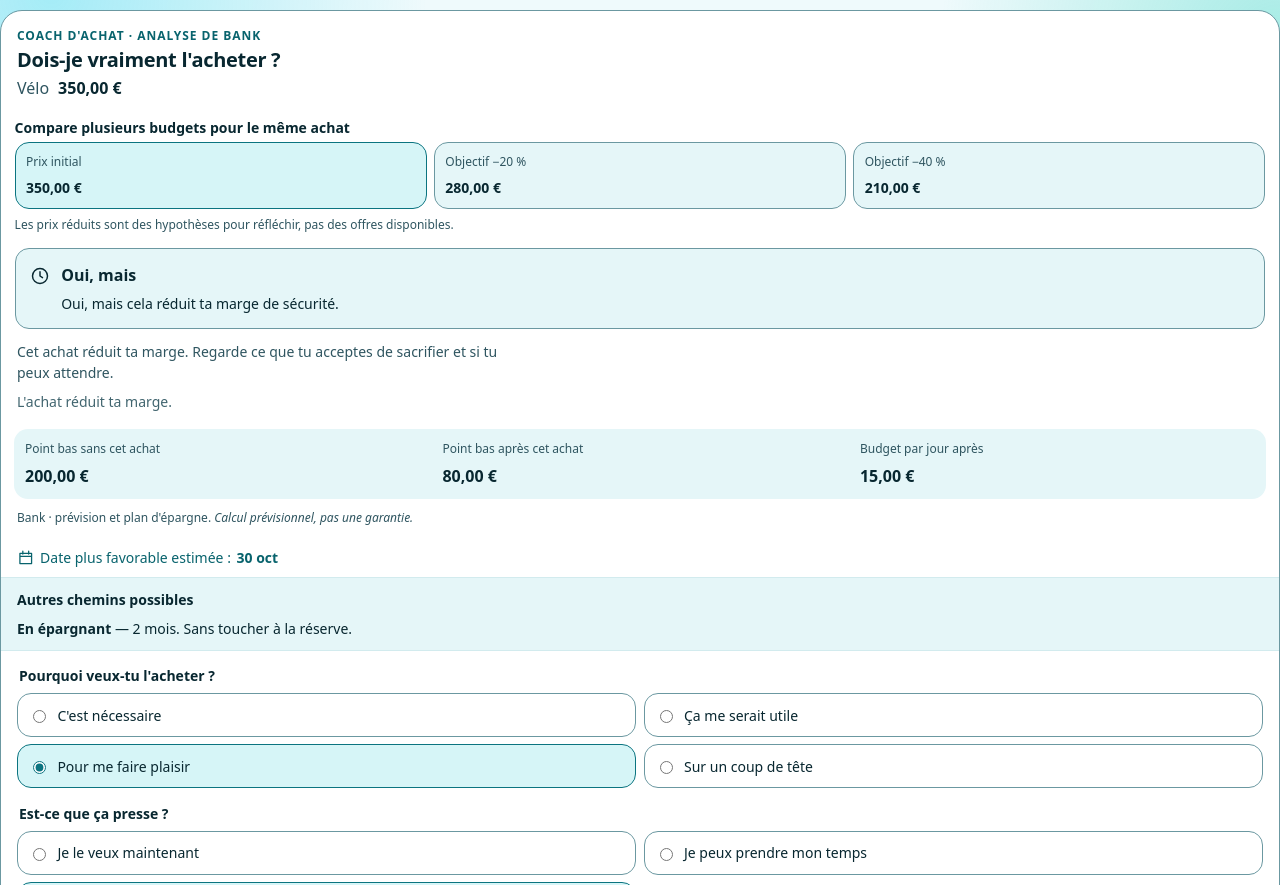
coach d'achat dans le chat › compares three Bank-calculated price targets without inventing offers or sending early
Expected: the element with class "chat-purchase-comparison" shows "pas des offres disponibles", [15,216,454,233]
Click the button "Objectif −40 % 210,00 €" at (892, 162), box [853,142,1266,209]
(page scrolled)
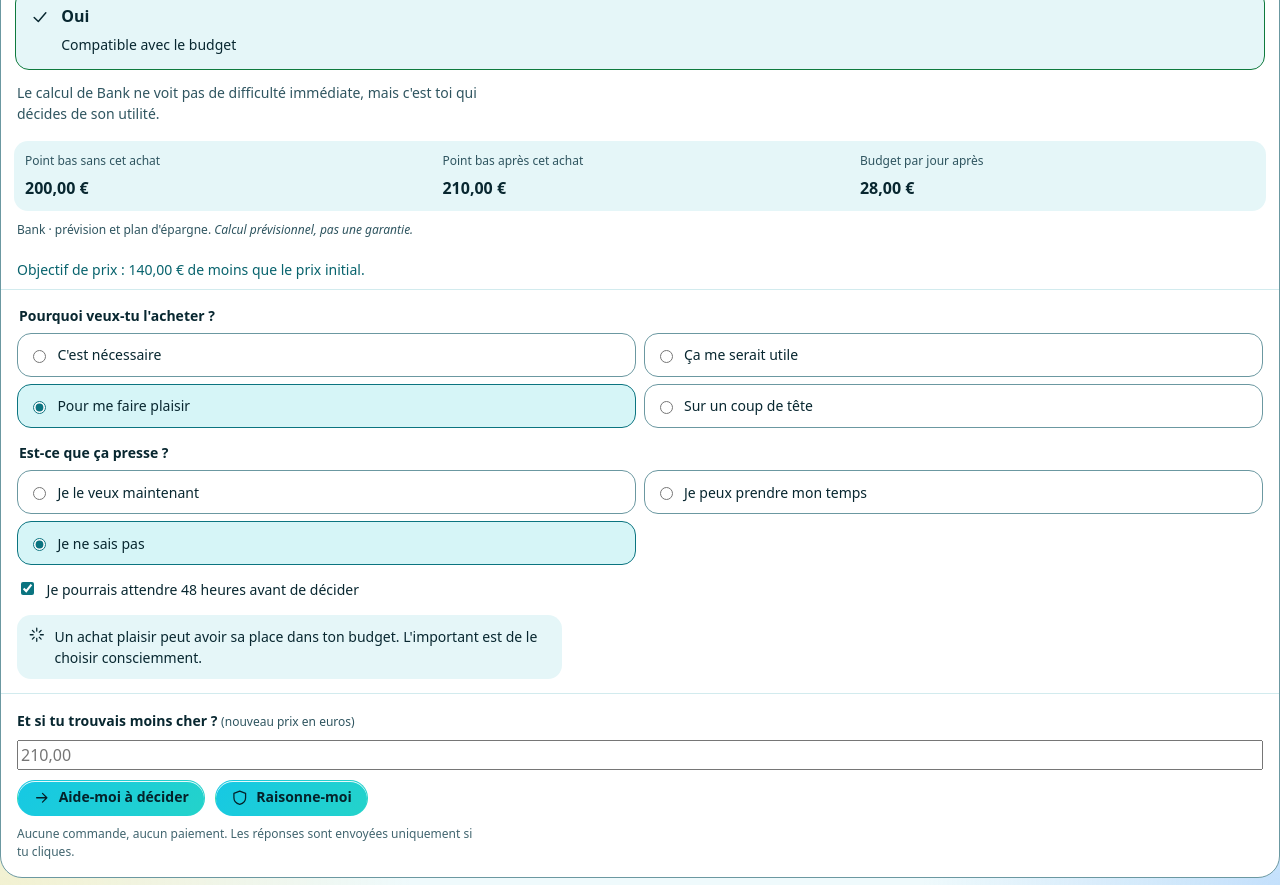
Expected: the message with class "chat-purchase-verdict" shows "Oui", [61,5,89,27]
Click the button "Raisonne-moi" at (291, 798), box [215,780,368,816]
(page scrolled)
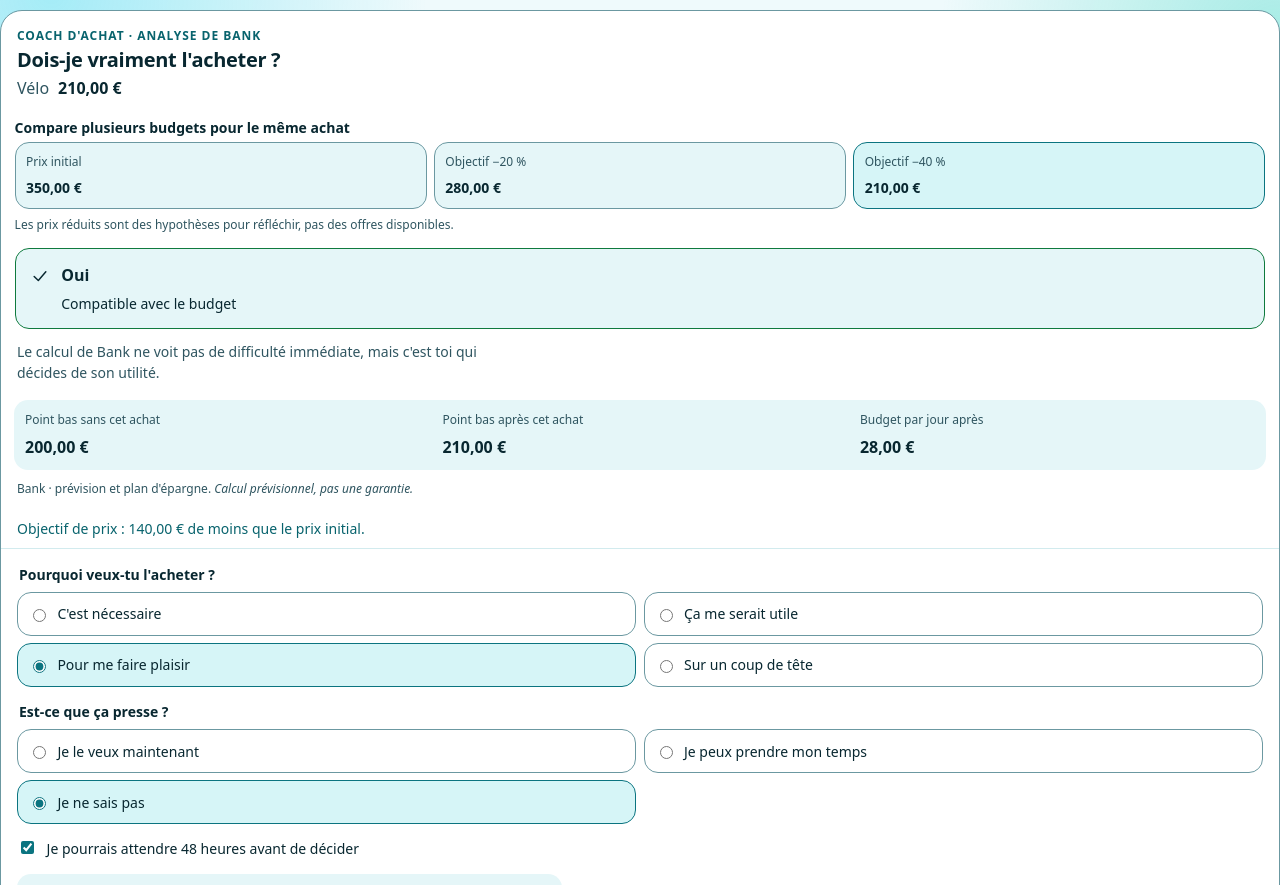
Click the button "Prix initial 350,00 €" at (54, 162), box [15,142,427,209]
(page scrolled)
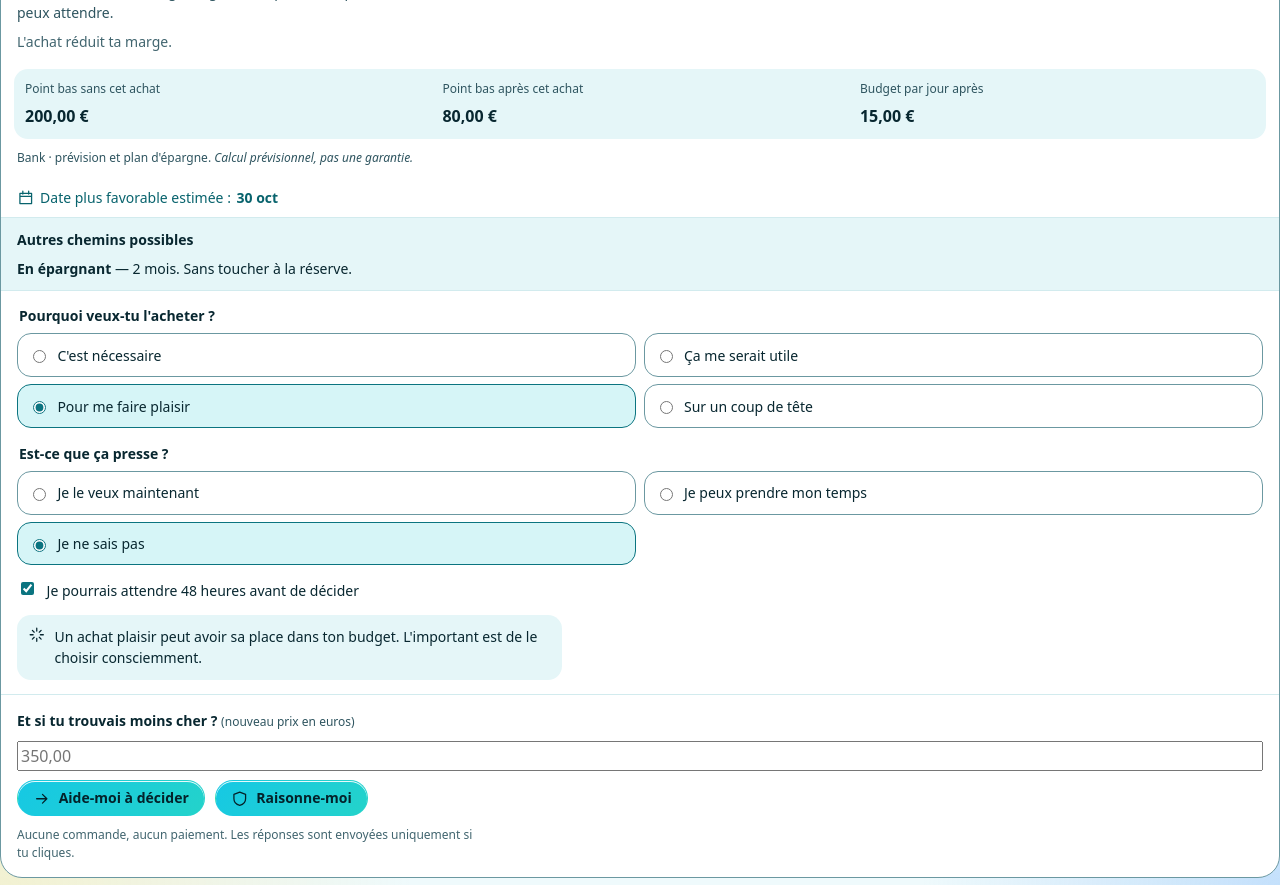
Now the button "Aide-moi à décider" is enabled, box [17,780,205,816]
